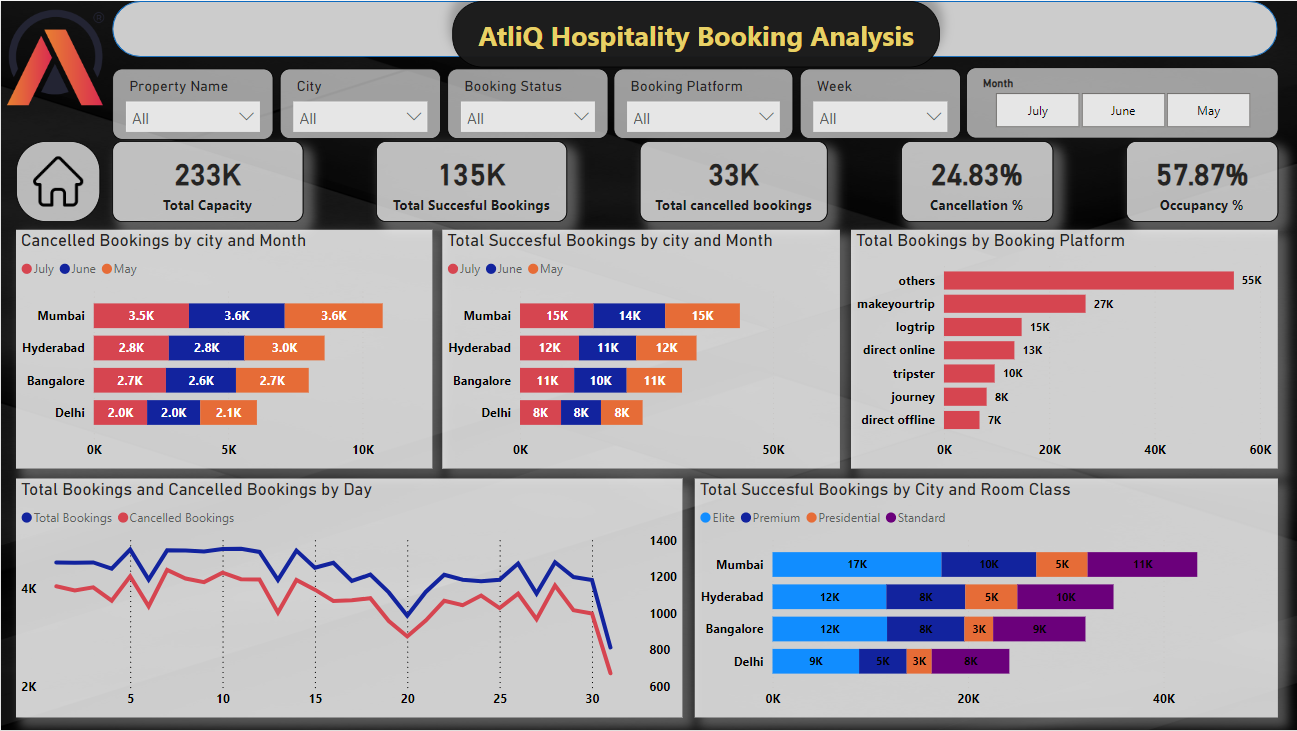

The dashboard page shown, as its layout file describes it:
{"tool":"powerbi","page":{"name":"Booking Analysis","canvas":[1280,720],"ordinal":3},"visuals":[{"type":"shape","box":[110.4,0,1150.9,55.2],"z":0},{"type":"image","box":[0,0,110,110],"z":1000},{"type":"slicer","fields":{"Values":["dim_hotels.property_name"]},"box":[110.4,66.3,159.5,70],"z":2000},{"type":"slicer","fields":{"Values":["dim_hotels.city"]},"box":[275.3,66.3,159.5,69.9],"z":3000},{"type":"slicer","fields":{"Values":["fact_bookings.booking_status"]},"box":[440.2,66.3,159.5,69.9],"z":4000},{"type":"slicer","fields":{"Values":["fact_bookings.booking_platform"]},"box":[605.2,66.3,177.9,69.9],"z":5000},{"type":"slicer","fields":{"Values":["dim_date.Week"]},"box":[788.5,66.3,159.5,69.9],"z":6000},{"type":"slicer","fields":{"Values":["dim_date.Month"]},"box":[952.9,65.7,308.6,70],"z":7000},{"type":"card","fields":{"Values":["Key Measure.Cancellation %"]},"box":[889.3,138.6,150,80],"z":8000},{"type":"image","box":[14.3,138.6,82.9,80],"z":9000},{"type":"barChart","fields":{"Category":["dim_hotels.city"],"Series":["dim_rooms.room_class"],"Y":["Key Measure.Total Succesful Bookings"]},"box":[685.7,471.4,575.7,235.7],"z":11000},{"type":"clusteredBarChart","fields":{"Y":["Key Measure.Total Bookings"],"Category":["fact_bookings.booking_platform"]},"box":[840,225.7,421.4,235.7],"z":12000},{"type":"lineChart","fields":{"Y":["Key Measure.Total Bookings"],"Category":["dim_date.date.Variation.Date Hierarchy.Day"],"Y2":["Key Measure.Total cancelled bookings"]},"box":[14.3,471.4,658.6,235.7],"z":13000},{"type":"barChart","fields":{"Category":["dim_hotels.city"],"Series":["dim_date.Month"],"Y":["Key Measure.Total cancelled bookings"]},"box":[14.3,225.7,411.4,235.7],"z":14000},{"type":"card","fields":{"Values":["Key Measure.Total Capacity"]},"box":[110,138.6,188.6,80],"z":15000},{"type":"card","fields":{"Values":["Key Measure.Total Succesful Bookings"]},"box":[370.7,138.6,188.6,80],"z":16000},{"type":"card","fields":{"Values":["Key Measure.Total cancelled bookings"]},"box":[631.4,138.6,185.7,80],"z":17000},{"type":"card","fields":{"Values":["Key Measure.Occupancy %"]},"box":[1111.4,138.6,150,80],"z":18000},{"type":"barChart","fields":{"Category":["dim_hotels.city"],"Series":["dim_date.Month"],"Y":["Key Measure.Total Succesful Bookings"]},"box":[435.7,225.7,392.9,235.7],"z":19000},{"type":"textbox","box":[445.7,0,481.4,65.7],"z":19001}]}

Visuals, with their boxes in screenshot pixels (x1, y1, x2, y2), scaled from the page's 1280x720 canvas onto the 1297x731 screenshot:
shape: x1=112 y1=0 x2=1278 y2=56
image: x1=0 y1=0 x2=111 y2=112
slicer - dim_hotels.property_name: x1=112 y1=67 x2=273 y2=138
slicer - dim_hotels.city: x1=279 y1=67 x2=441 y2=138
slicer - fact_bookings.booking_status: x1=446 y1=67 x2=608 y2=138
slicer - fact_bookings.booking_platform: x1=613 y1=67 x2=794 y2=138
slicer - dim_date.Week: x1=799 y1=67 x2=961 y2=138
slicer - dim_date.Month: x1=966 y1=67 x2=1278 y2=138
card - Key Measure.Cancellation %: x1=901 y1=141 x2=1053 y2=222
image: x1=14 y1=141 x2=98 y2=222
barChart - dim_hotels.city x dim_rooms.room_class: x1=695 y1=479 x2=1278 y2=718
clusteredBarChart - Key Measure.Total Bookings x fact_bookings.booking_platform: x1=851 y1=229 x2=1278 y2=468
lineChart - Key Measure.Total Bookings x dim_date.date.Variation.Date Hierarchy.Day: x1=14 y1=479 x2=682 y2=718
barChart - dim_hotels.city x dim_date.Month: x1=14 y1=229 x2=431 y2=468
card - Key Measure.Total Capacity: x1=111 y1=141 x2=303 y2=222
card - Key Measure.Total Succesful Bookings: x1=376 y1=141 x2=567 y2=222
card - Key Measure.Total cancelled bookings: x1=640 y1=141 x2=828 y2=222
card - Key Measure.Occupancy %: x1=1126 y1=141 x2=1278 y2=222
barChart - dim_hotels.city x dim_date.Month: x1=441 y1=229 x2=840 y2=468
textbox: x1=452 y1=0 x2=939 y2=67
